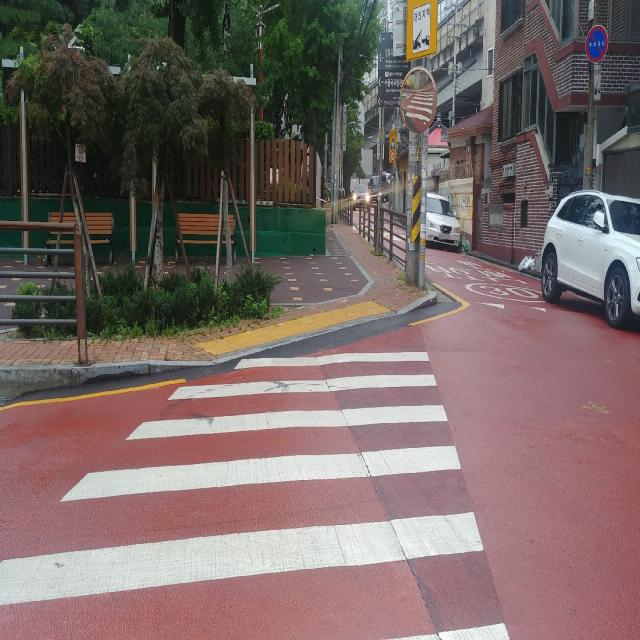횡단보도: (0, 348, 513, 640)
